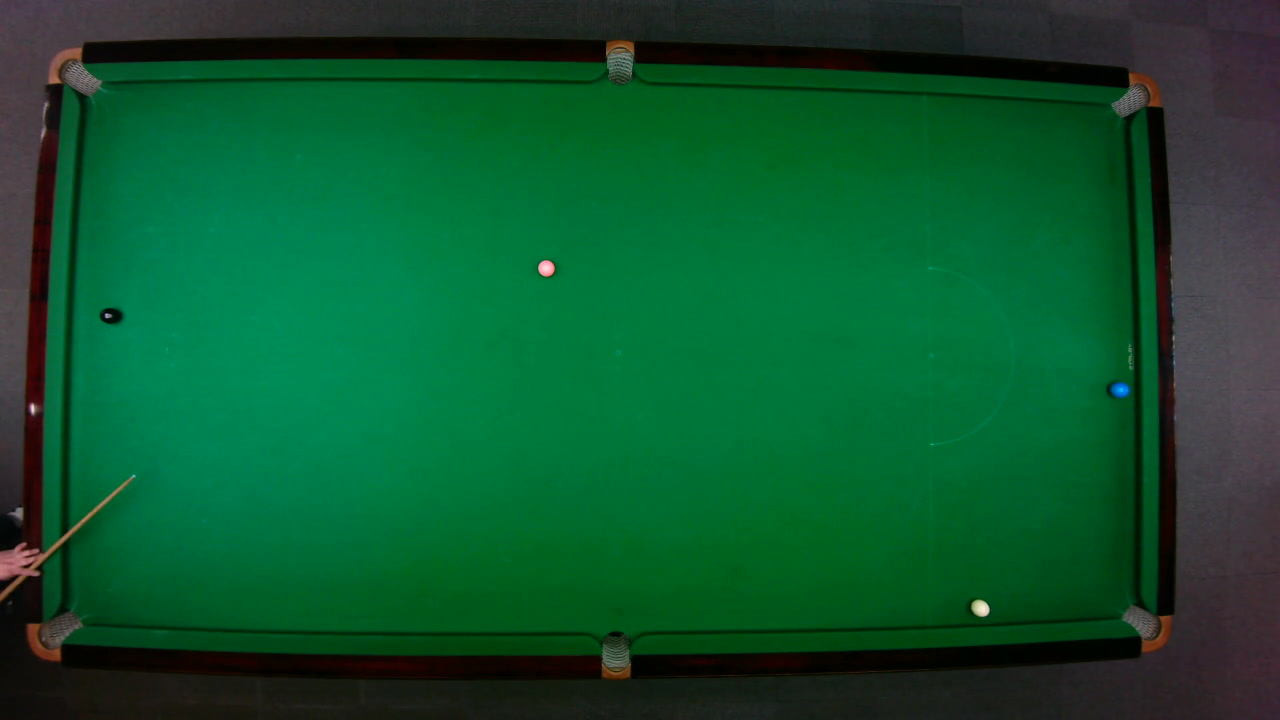bag: (25, 609, 84, 661), (46, 46, 101, 96), (1119, 603, 1171, 652), (1108, 71, 1162, 118), (600, 629, 630, 680), (605, 38, 633, 85)
black: (98, 306, 120, 324)
blue: (1107, 380, 1130, 398)
cue: (0, 474, 135, 602)
pink: (536, 258, 555, 277)
white: (969, 598, 990, 617)
zone: (926, 265, 1013, 445)
